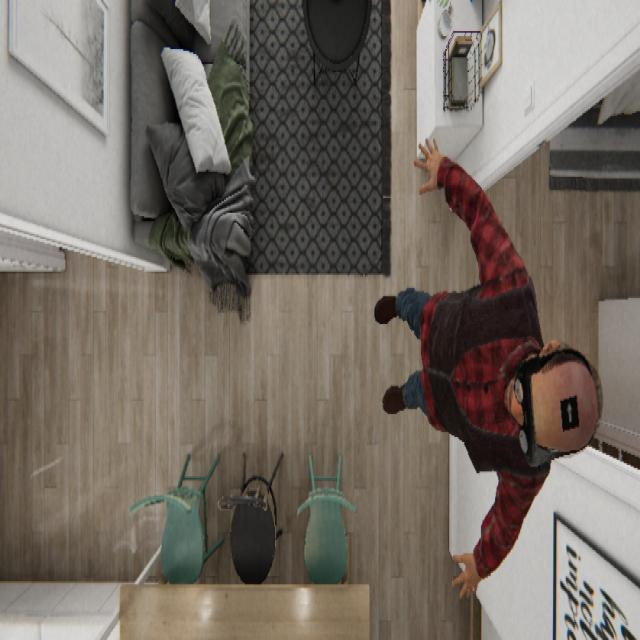Human: (373, 134, 603, 601)
UnityLogo: (558, 391, 580, 432)
